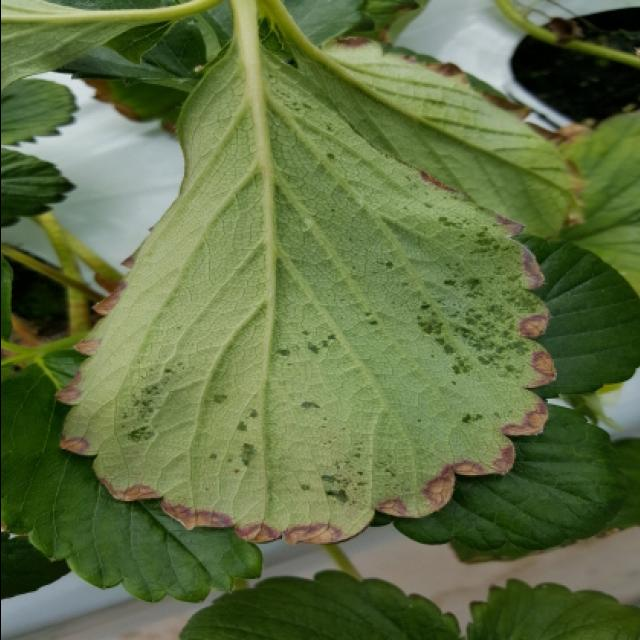Angular Leafspot: (52, 39, 558, 547)
